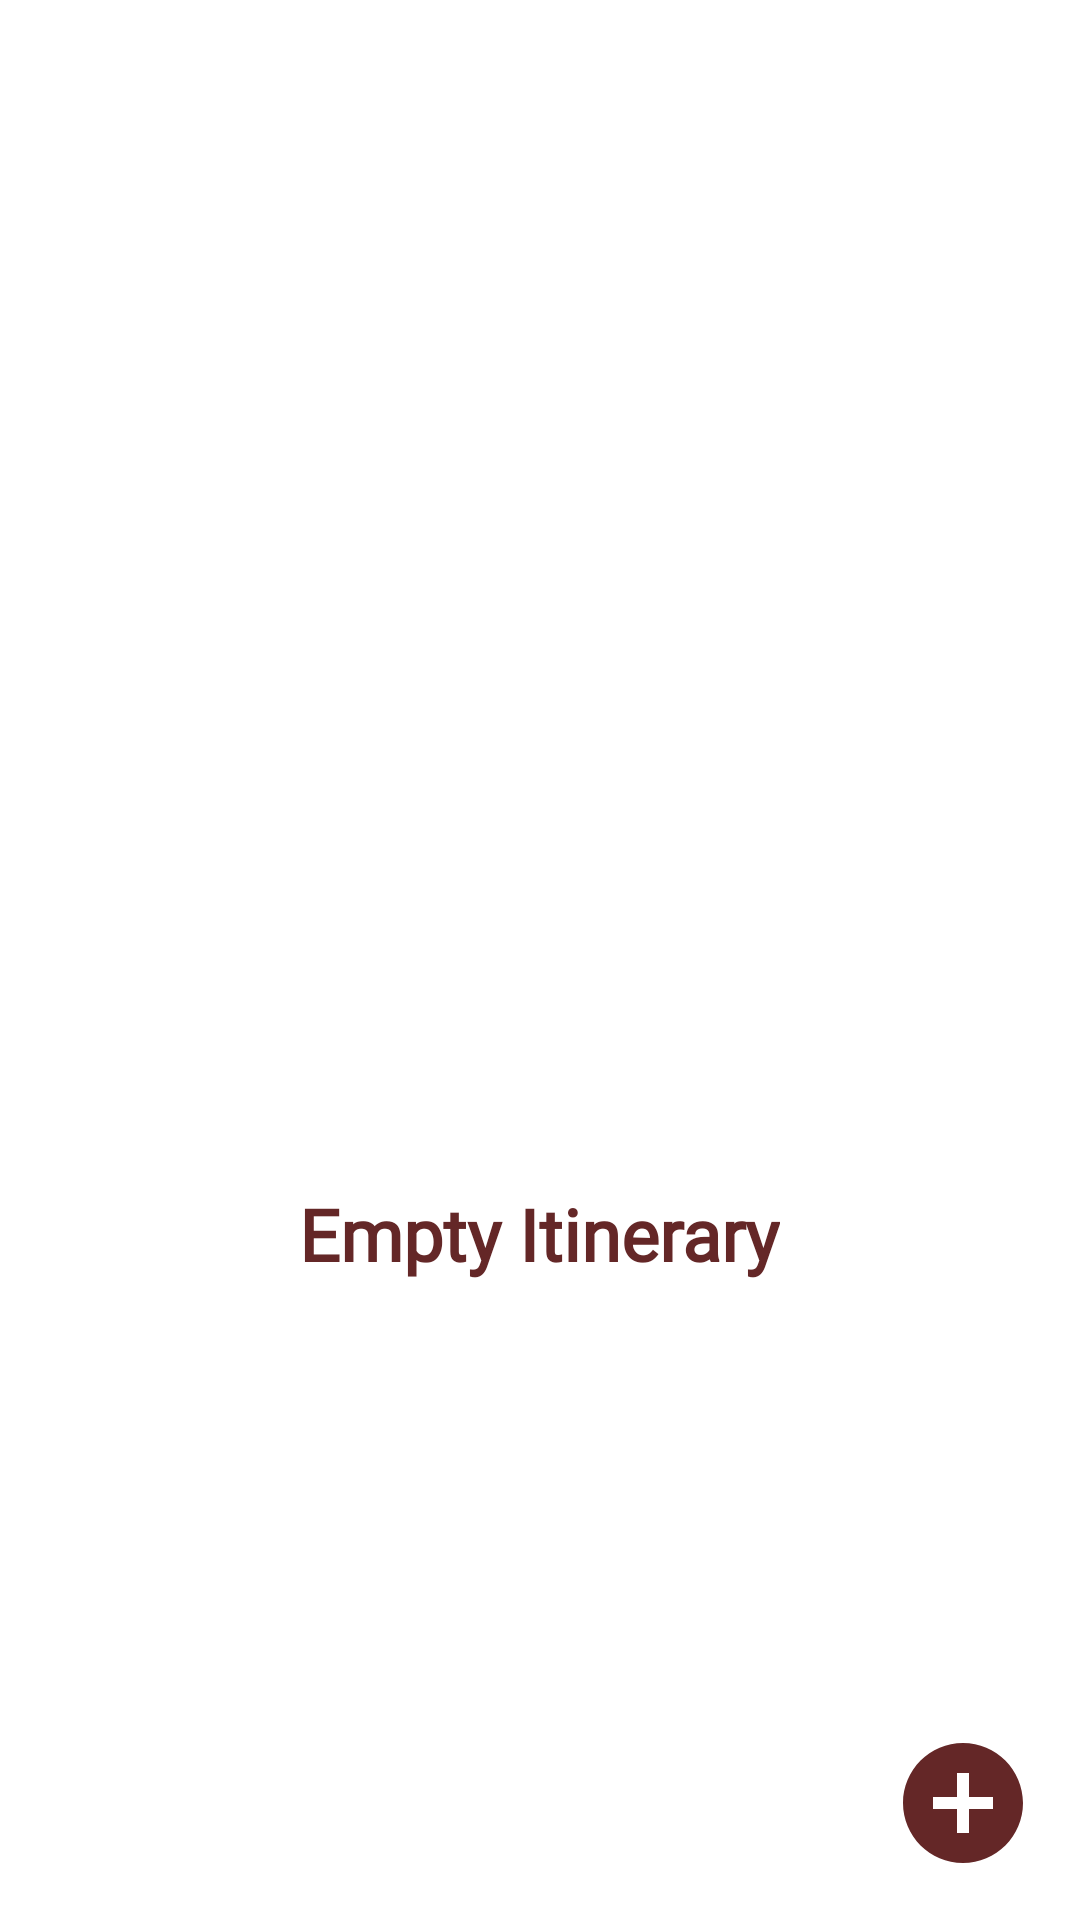

Point at icon controls on the screen. Image size 1080px x 1920px, points as point (x, y).
add desti: point (963, 1803)
